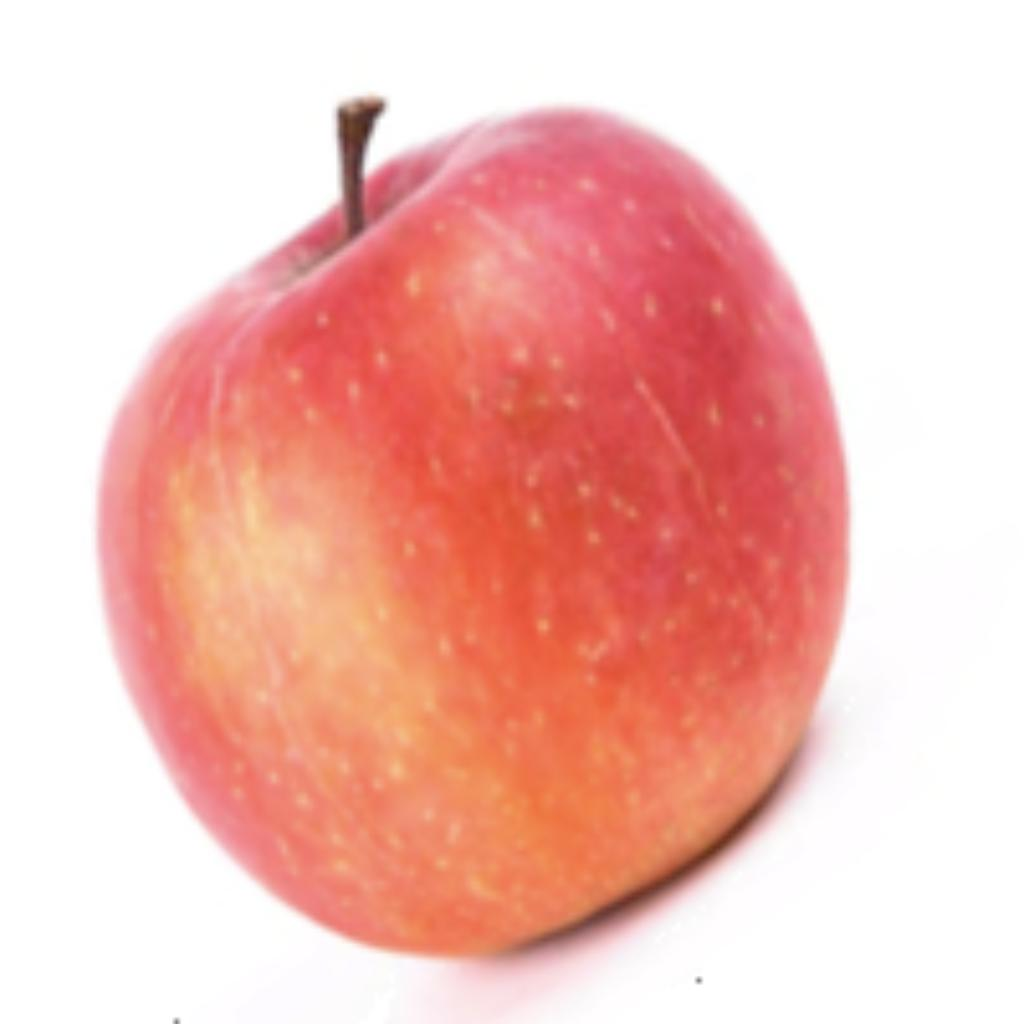apple: (87, 87, 855, 1014)
